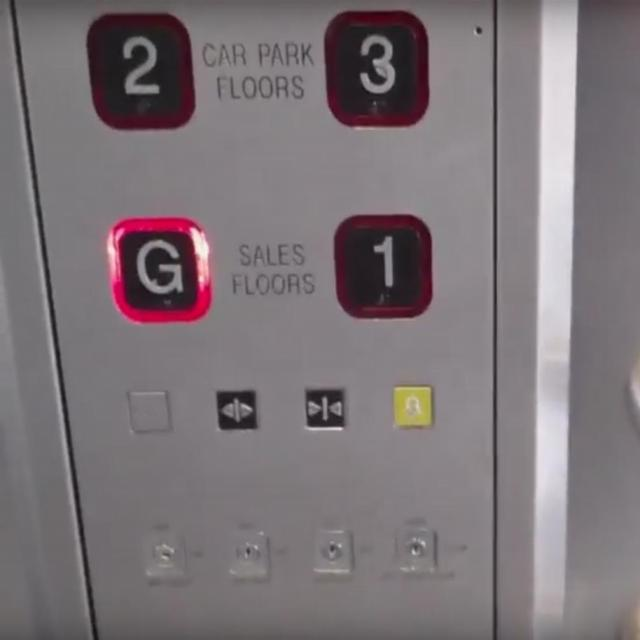1: (331, 210, 434, 322)
2: (86, 9, 196, 128)
3: (322, 7, 431, 127)
G: (105, 214, 211, 325)
alarm: (391, 385, 433, 429)
close: (304, 384, 346, 432)
empty: (126, 388, 173, 435)
keyhole: (141, 530, 187, 584), (393, 524, 440, 576), (229, 528, 271, 582), (312, 526, 354, 576)
open: (215, 388, 258, 434)
